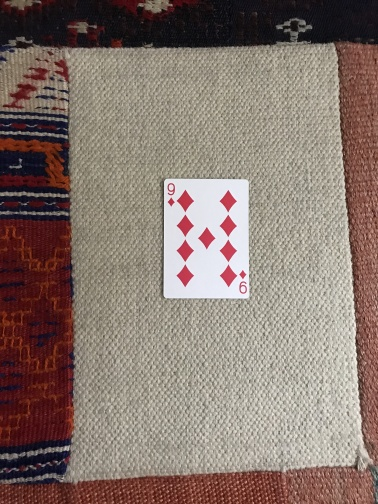nine: (162, 178, 251, 300)
